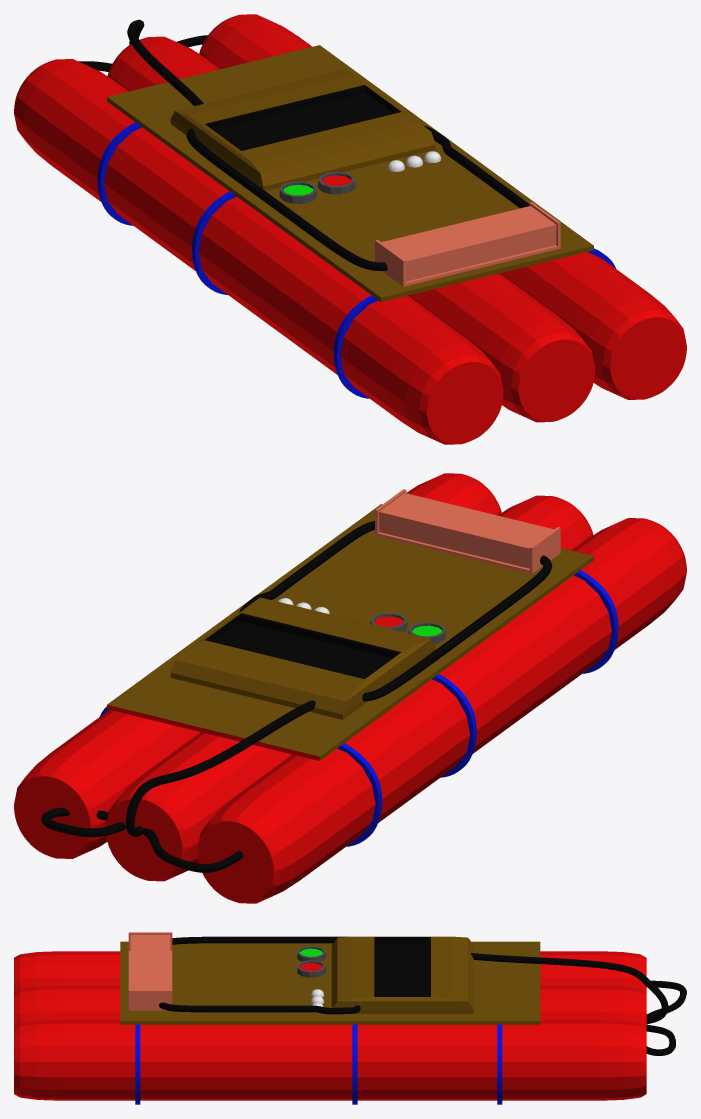
The model's file is Bomb.fbx.
The picture shows the model from 3 angles, top to bottom: view 1: azimuth 30°, elevation 25°; view 2: azimuth 150°, elevation 25°; view 3: azimuth 270°, elevation 25°; orthographic projection. The views are drawn at different scales.
Visible parts, largest first — view 1: Cylinder, Cube, NurbsPath.003, NurbsPath, NurbsPath.002, NurbsPath.001, Cylinder.003, Cylinder.002; view 2: Cylinder, Cube, NurbsPath.003, NurbsPath.002, NurbsPath.001, NurbsPath; view 3: Cylinder, NurbsPath.003, Cube, NurbsPath.001, NurbsPath, NurbsPath.002, Cylinder.003, Cylinder.002.
Boxes of the visible parts, x1,y1,x2,y2 form: Cylinder: (14, 14, 686, 444); Cube: (375, 202, 560, 286); NurbsPath.003: (78, 19, 529, 270); NurbsPath: (333, 248, 616, 398); NurbsPath.002: (97, 122, 141, 225); NurbsPath.001: (192, 191, 236, 294); Cylinder.003: (318, 171, 355, 194); Cylinder.002: (279, 181, 316, 203); Cylinder: (14, 473, 686, 903); Cube: (375, 489, 560, 573); NurbsPath.003: (41, 521, 552, 872); NurbsPath.002: (99, 706, 382, 846); NurbsPath.001: (432, 674, 476, 777); NurbsPath: (574, 570, 618, 673); Cylinder: (14, 936, 646, 1100); NurbsPath.003: (159, 936, 686, 1055); Cube: (128, 932, 172, 1010); NurbsPath.001: (352, 1024, 357, 1104); NurbsPath: (135, 1024, 140, 1104); NurbsPath.002: (497, 1024, 502, 1104); Cylinder.003: (297, 960, 325, 977); Cylinder.002: (297, 946, 325, 961).
Bounding box in the file's own units: 345 × 162 × 929.
